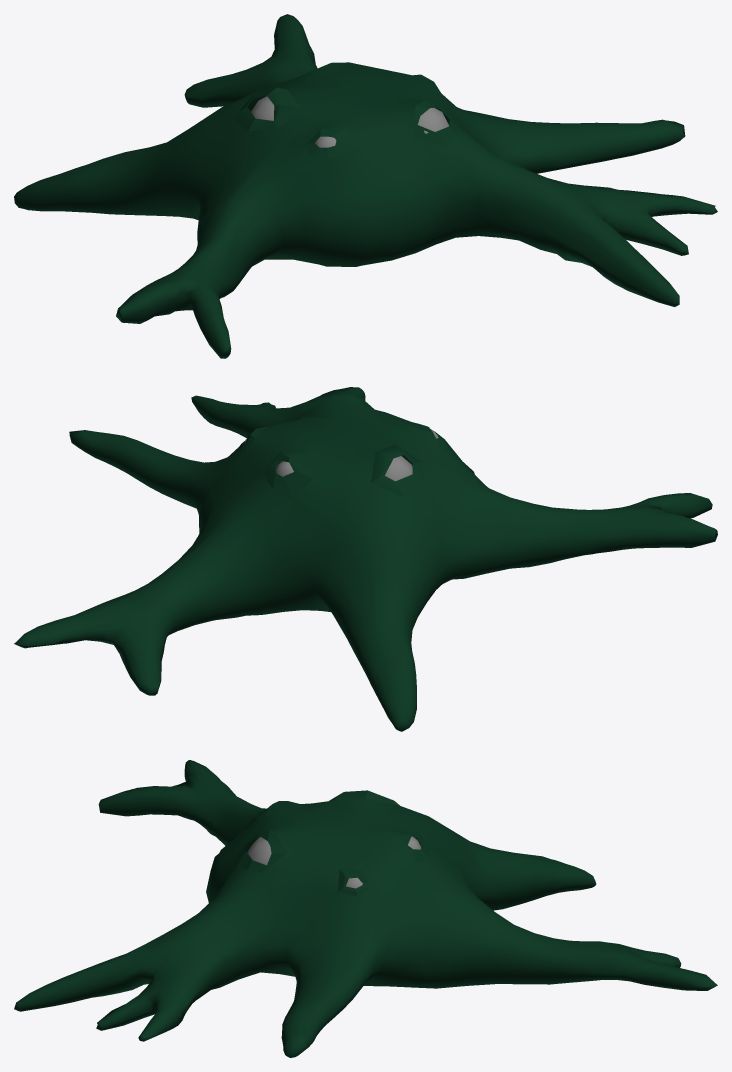
The model's file is Parasite 3.fbx.
3 renders of one model, top to bottom at view 1: azimuth 30°, elevation 25°; view 2: azimuth 150°, elevation 25°; view 3: azimuth 270°, elevation 25°, orthographic. The views are drawn at different scales.
Parts seen in each view (by area): view 1: parasitelp2:Group2221; view 2: parasitelp2:Group2221; view 3: parasitelp2:Group2221.
Part boxes in pixels (x1=…): parasitelp2:Group2221: x1=14, y1=14, x2=717, y2=358; parasitelp2:Group2221: x1=14, y1=387, x2=717, y2=731; parasitelp2:Group2221: x1=14, y1=760, x2=717, y2=1057.
Size of the model in its own units: 82.4 by 21.75 by 86.61.
